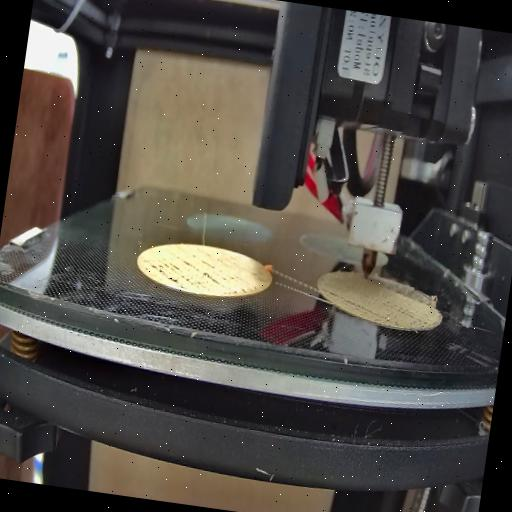under_extrusion: (140, 254, 258, 302), (318, 283, 386, 321), (419, 288, 445, 316)
